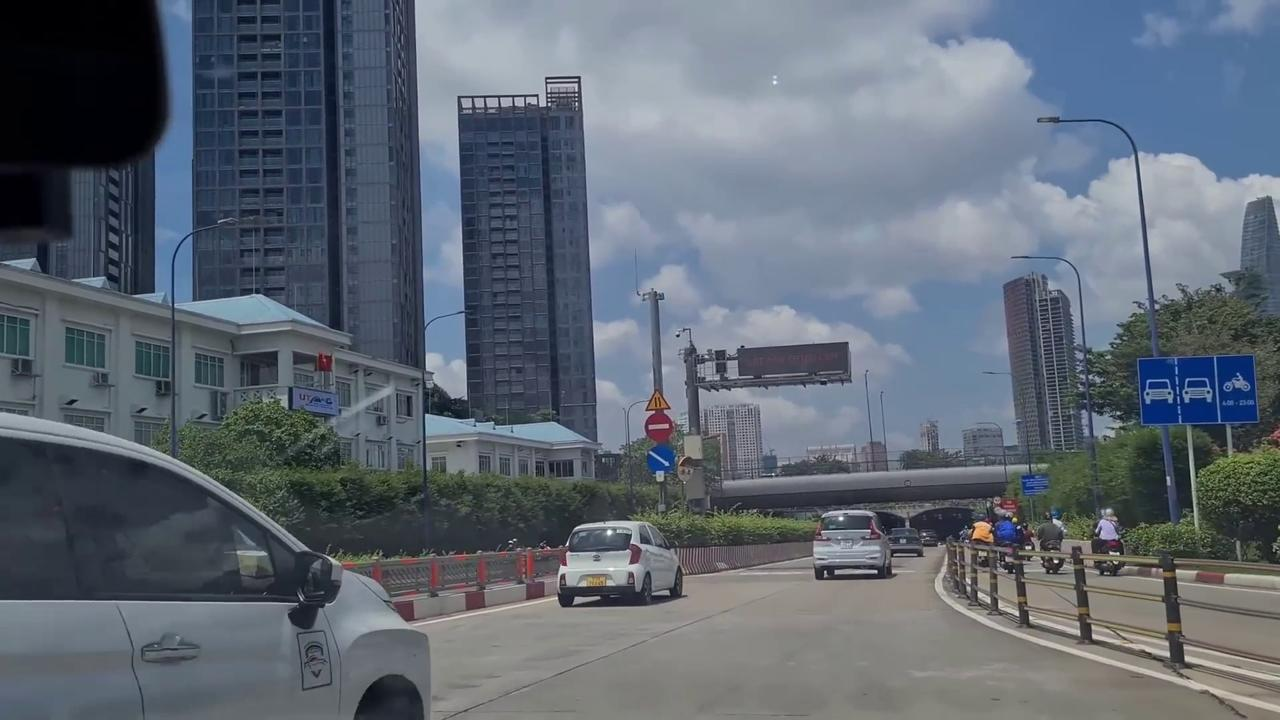Cấm đi ngược chiều: (645, 411, 674, 444)
Hướng phải đi vòng sang phải: (647, 444, 674, 473)
Làn đường cho từng xe: (1139, 353, 1260, 428)
Đuờng hẹp: (644, 388, 674, 411)
